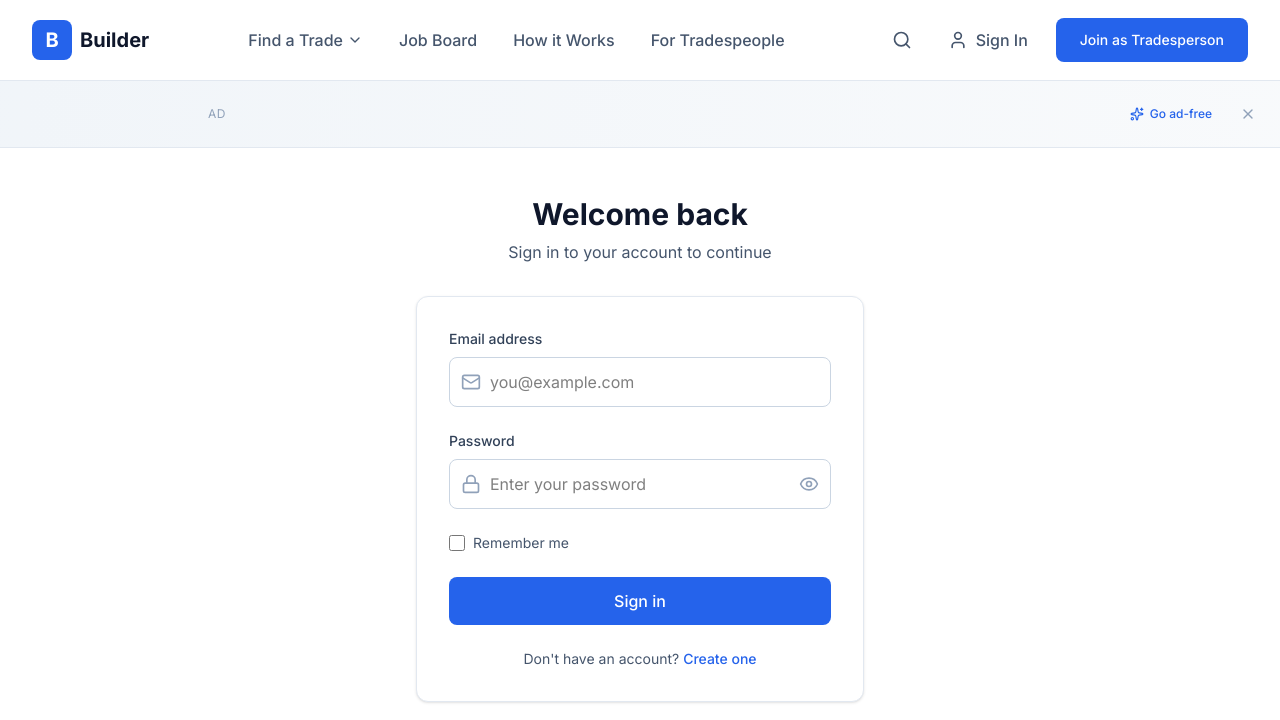
Test: Authentication › Login Page › shows error for invalid credentials
Type "wrong@email.com" into the field with id "email" at (640, 382), box [449, 357, 831, 407]
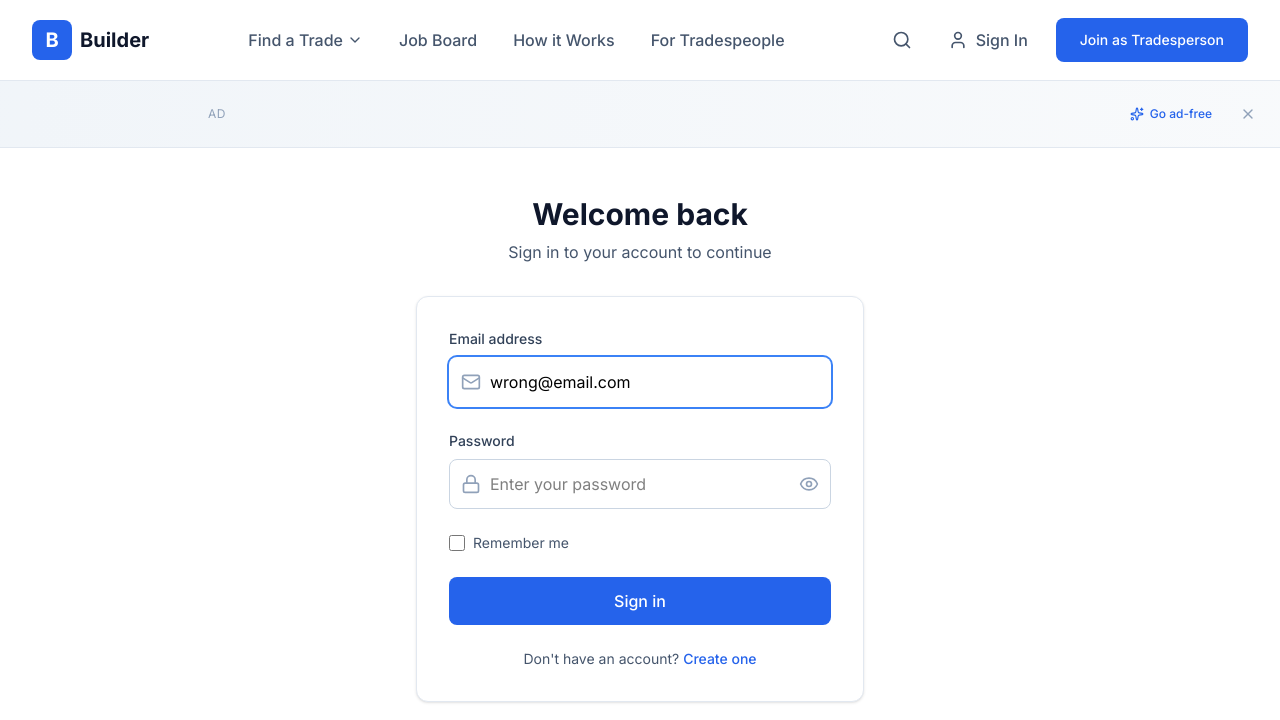
Type "wrongpassword" into the password field labelled "Password" at (640, 484), box [449, 459, 831, 509]
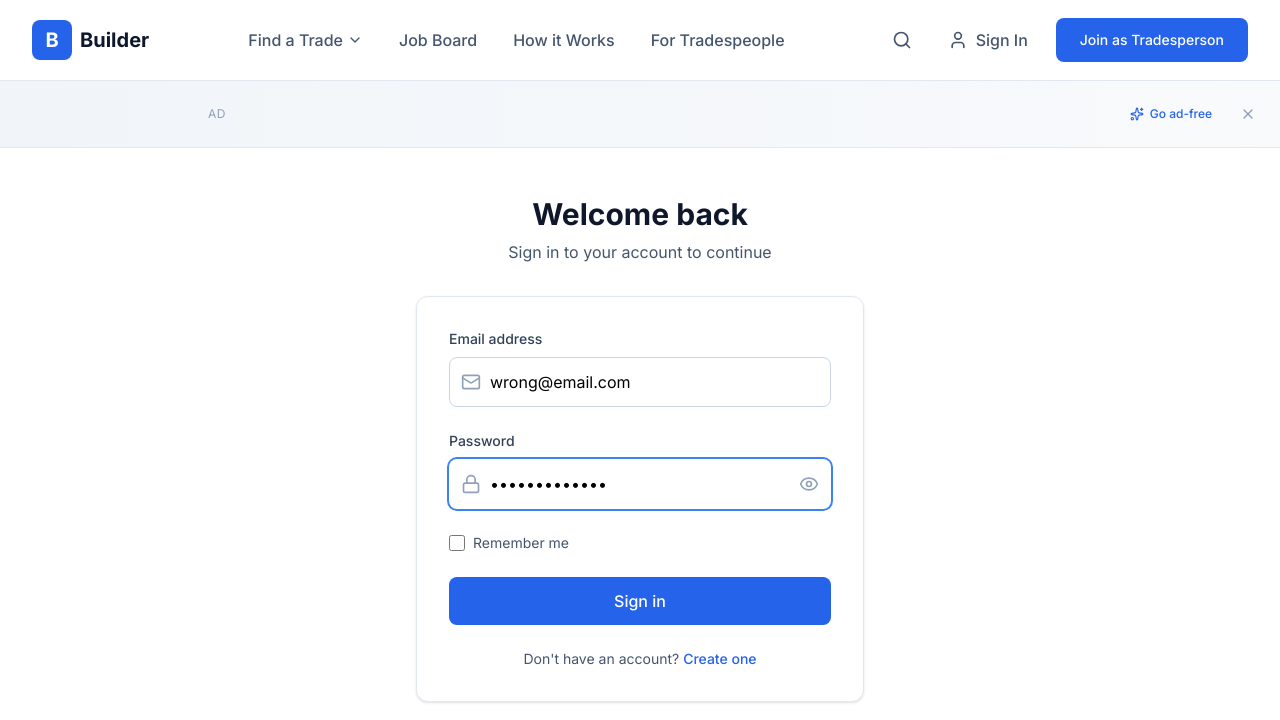
Click the submit button at (640, 601), box [449, 577, 831, 625]
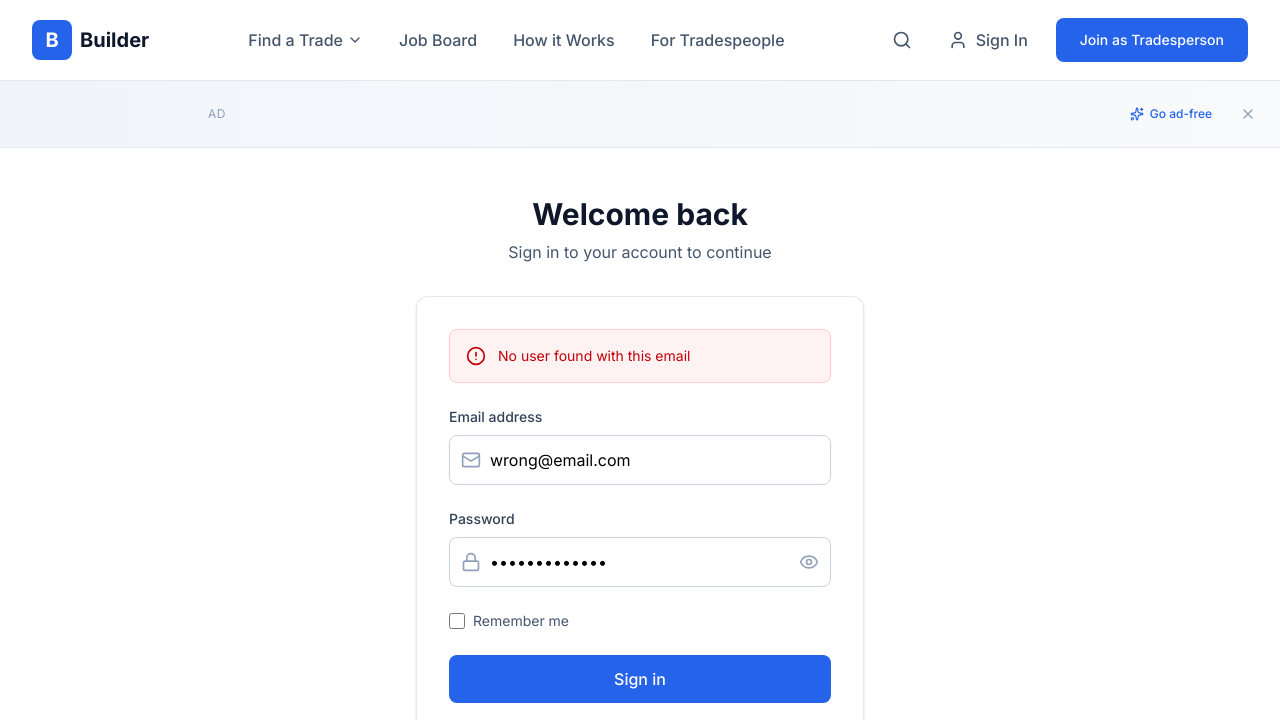
Check: the element showing "No user found with this email" is shown, box [449, 329, 831, 383]
